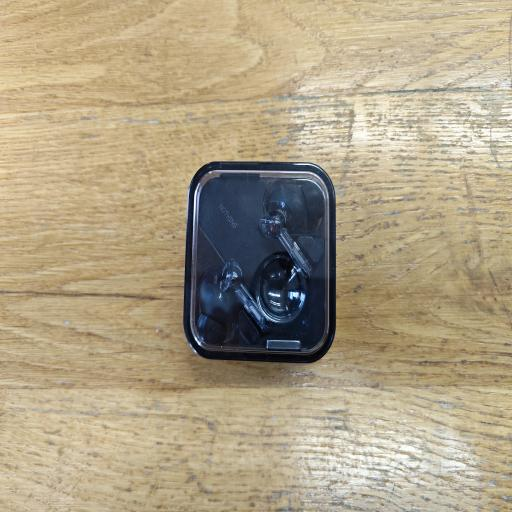CASTI: (178, 152, 341, 368)
